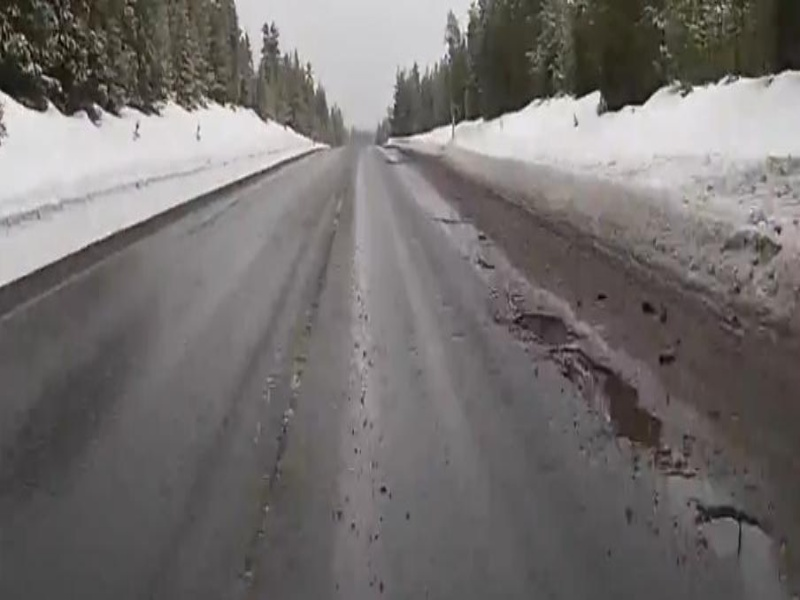pothole: (550, 350, 666, 454), (690, 506, 783, 566), (510, 310, 580, 350)
